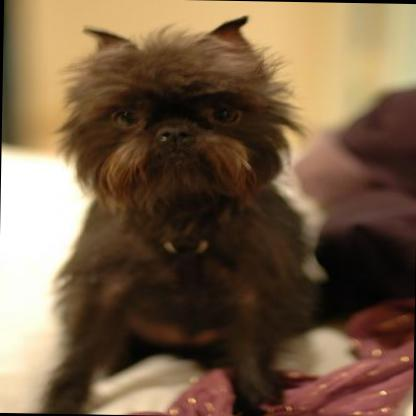affenpinscher: (45, 11, 317, 414)
